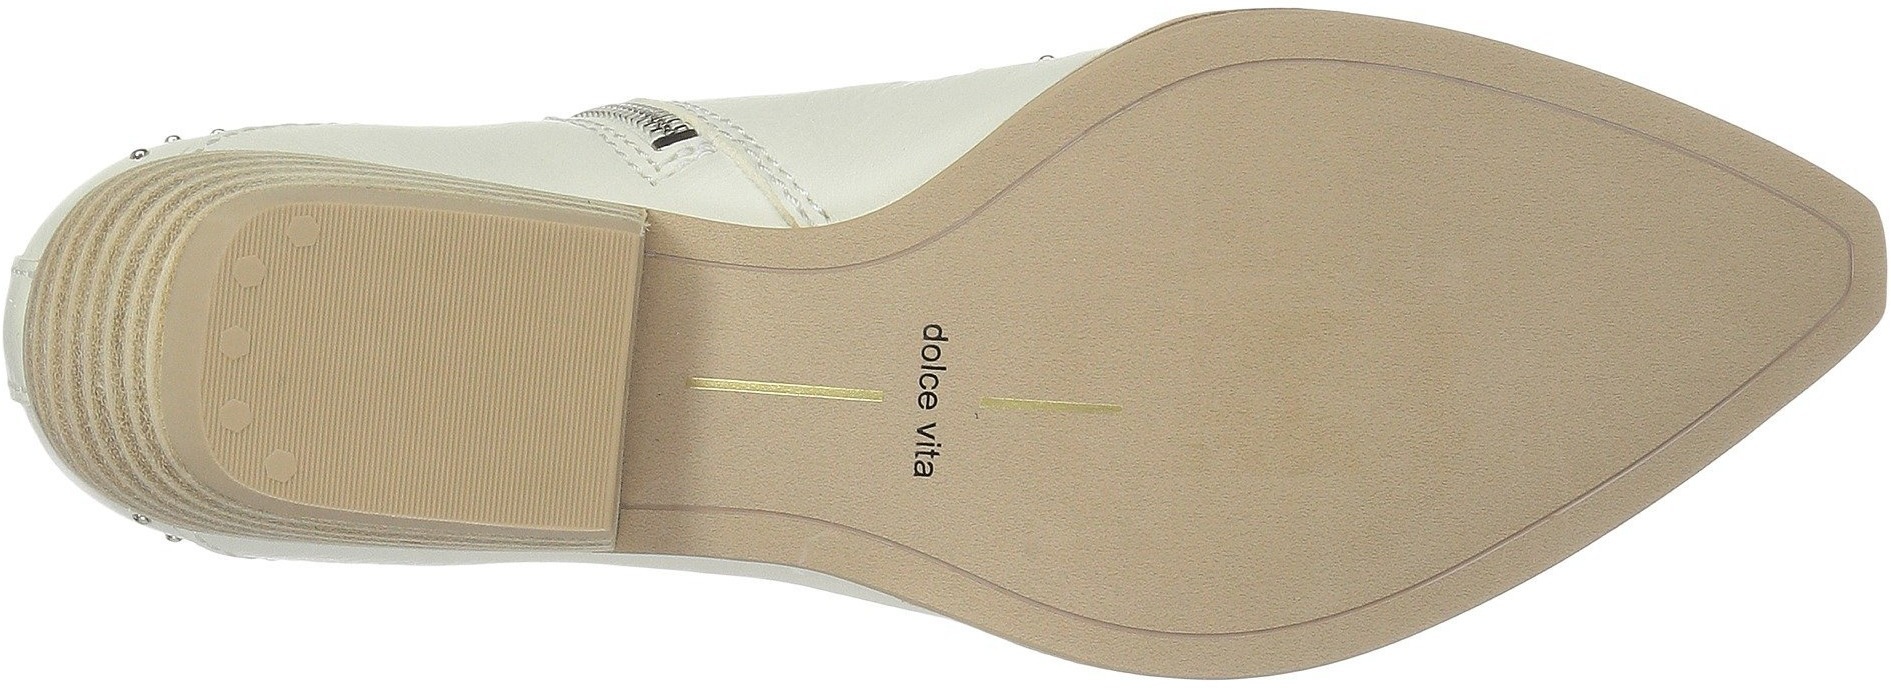line: (1184, 33, 1415, 247)
other: (1183, 95, 1476, 366), (1481, 170, 1716, 408), (1178, 371, 1410, 588), (965, 215, 1173, 398), (976, 412, 1153, 594), (280, 267, 453, 432), (458, 238, 623, 391), (488, 398, 609, 514), (1412, 412, 1530, 527), (1720, 218, 1820, 322)
polygon: (215, 322, 264, 371), (282, 210, 329, 253)
